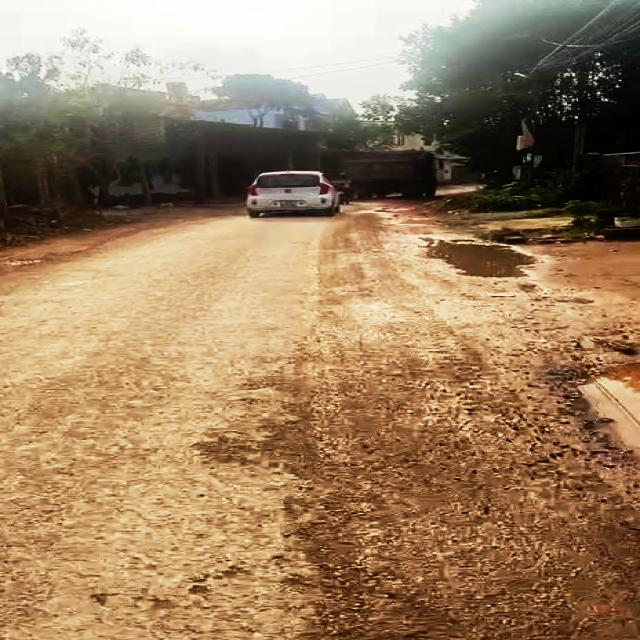pothole: (542, 353, 640, 464), (419, 236, 545, 282)
